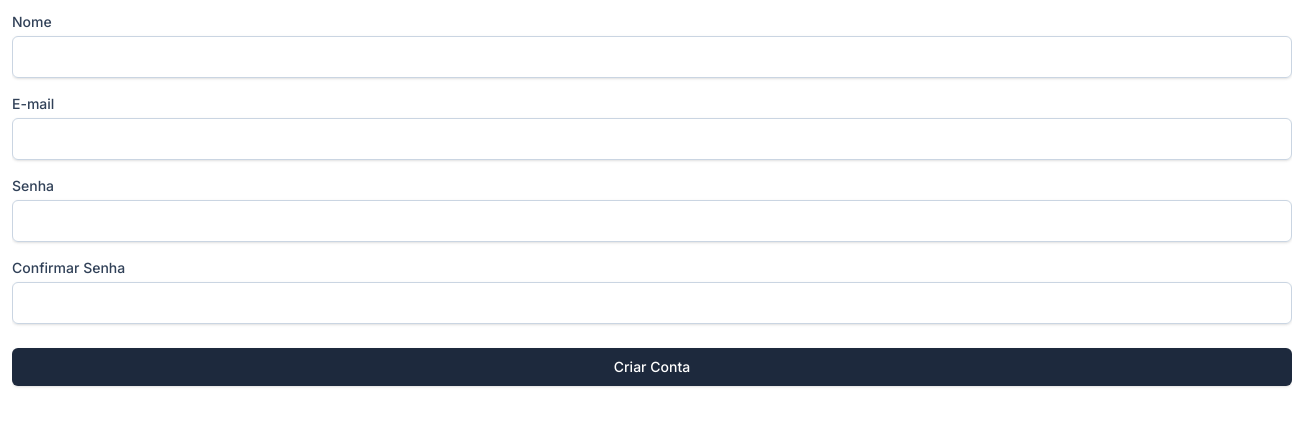
RegisterForm › deve mostrar erro quando o registro falha
Type "João Silva" into the field labelled "Nome" at (652, 57), box [12,36,1292,78]
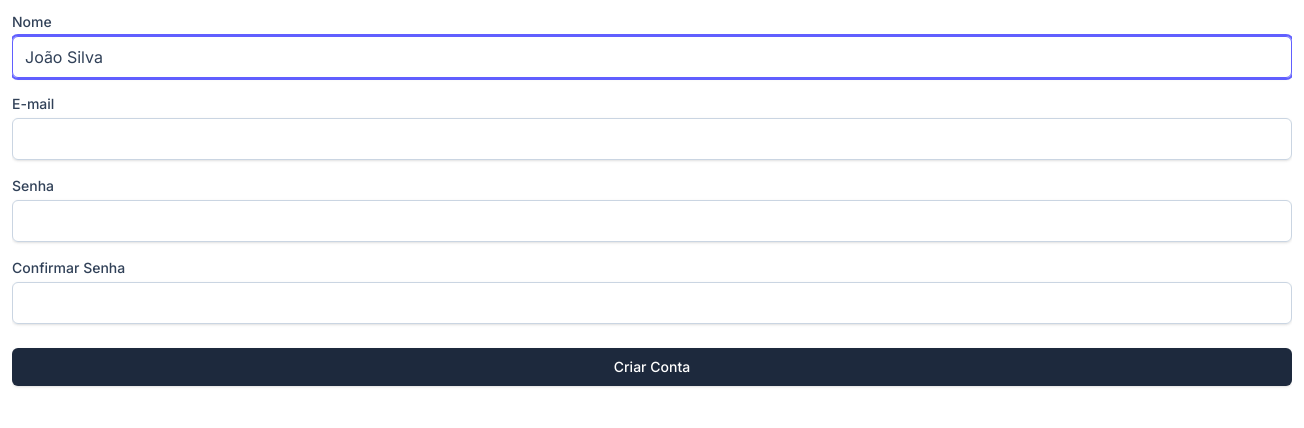
Type "joao@example.com" into the field labelled "E-mail" at (652, 139), box [12,118,1292,160]
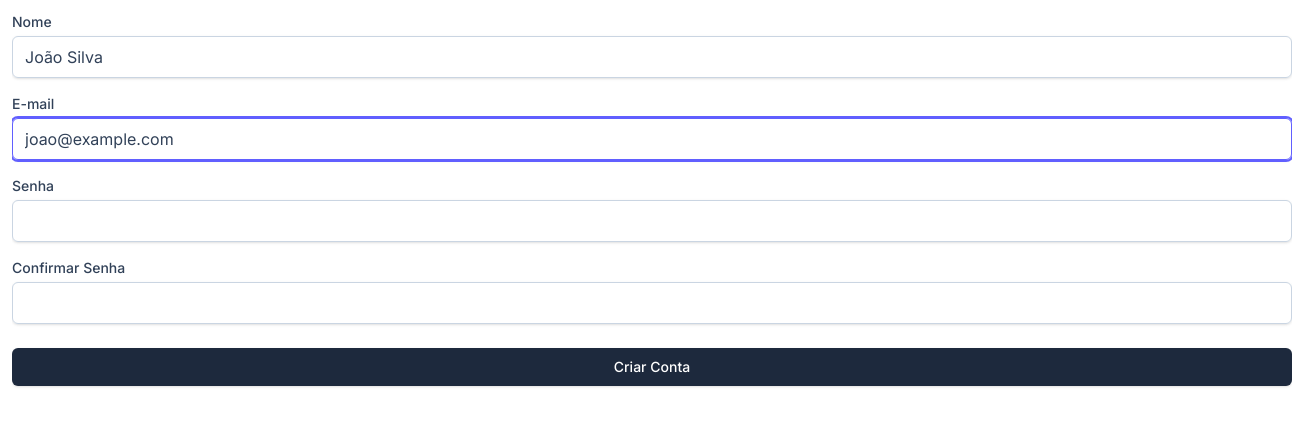
Type "123456" into the password field labelled "Senha" at (652, 221), box [12,200,1292,242]
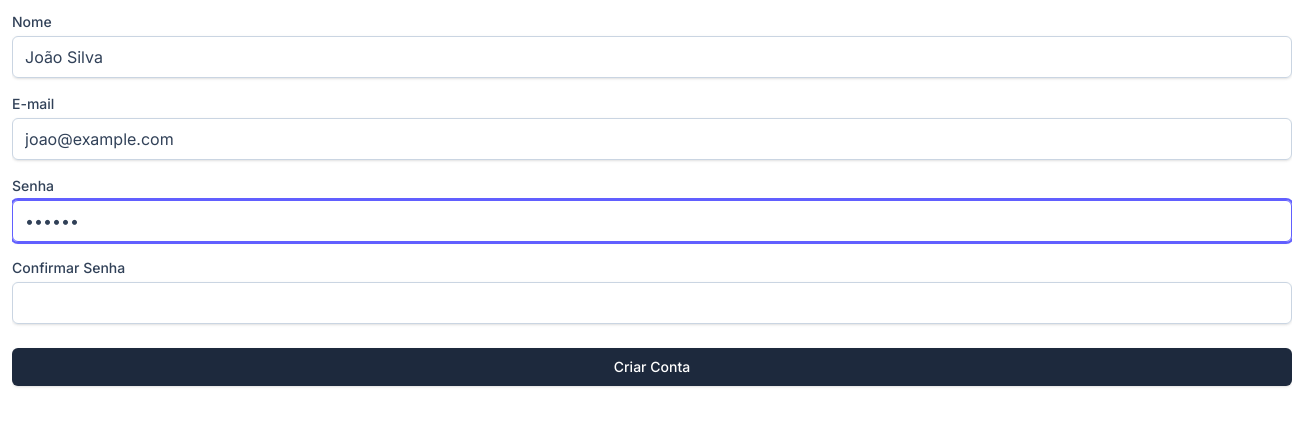
Type "123456" into the password field labelled "Confirmar Senha" at (652, 303), box [12,282,1292,324]
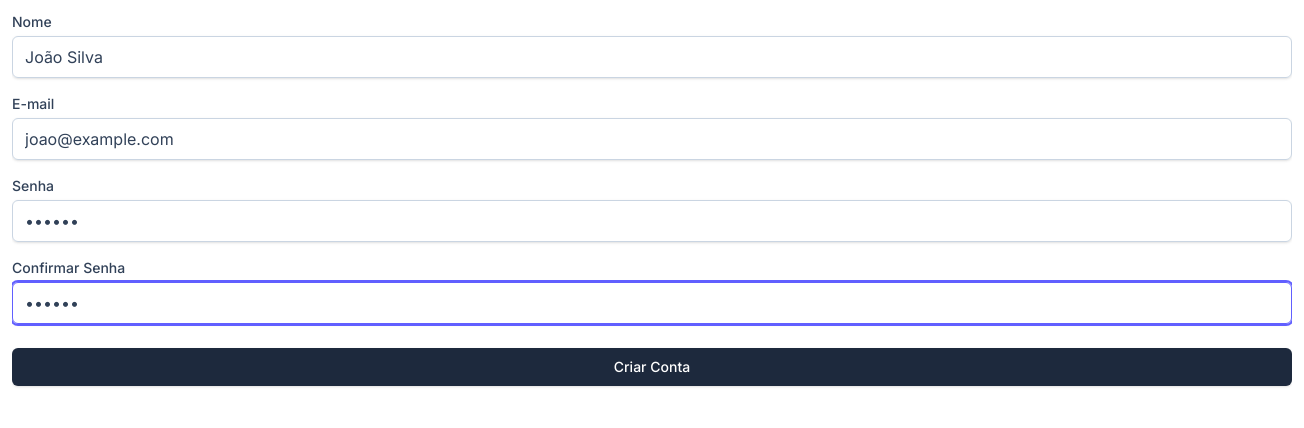
Click the button "Criar Conta" at (652, 367), box [12,348,1292,386]
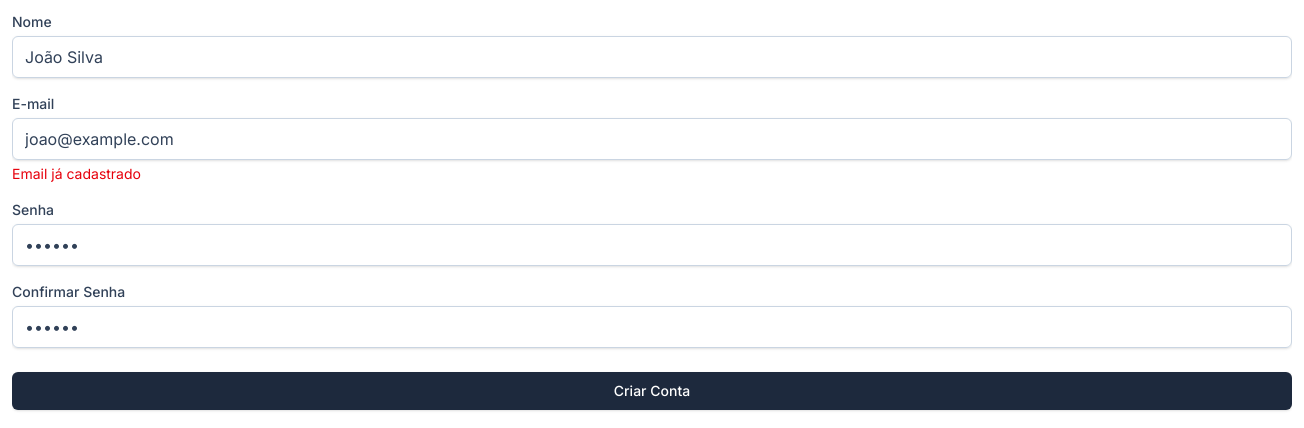
Now the text "Email já cadastrado" is shown, box [12,165,141,182]
